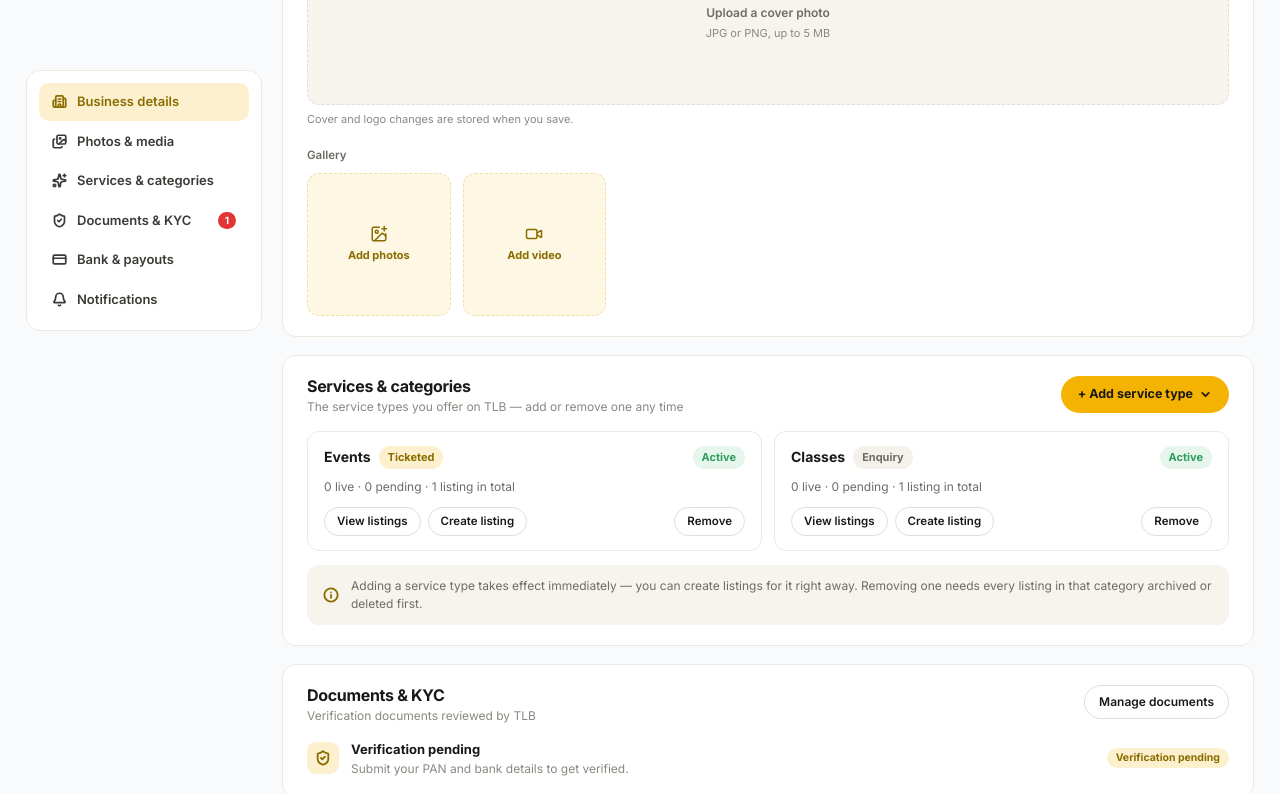
Test: Services & categories — verticals self-service › adds a new vertical and shows it immediately without a page reload
The image size is (1280, 794).
(page scrolled)
Check: the text "Venues" is not shown
Click the button "+ Add service type" at coordinates (1145, 395), box [1061,376,1229,413]
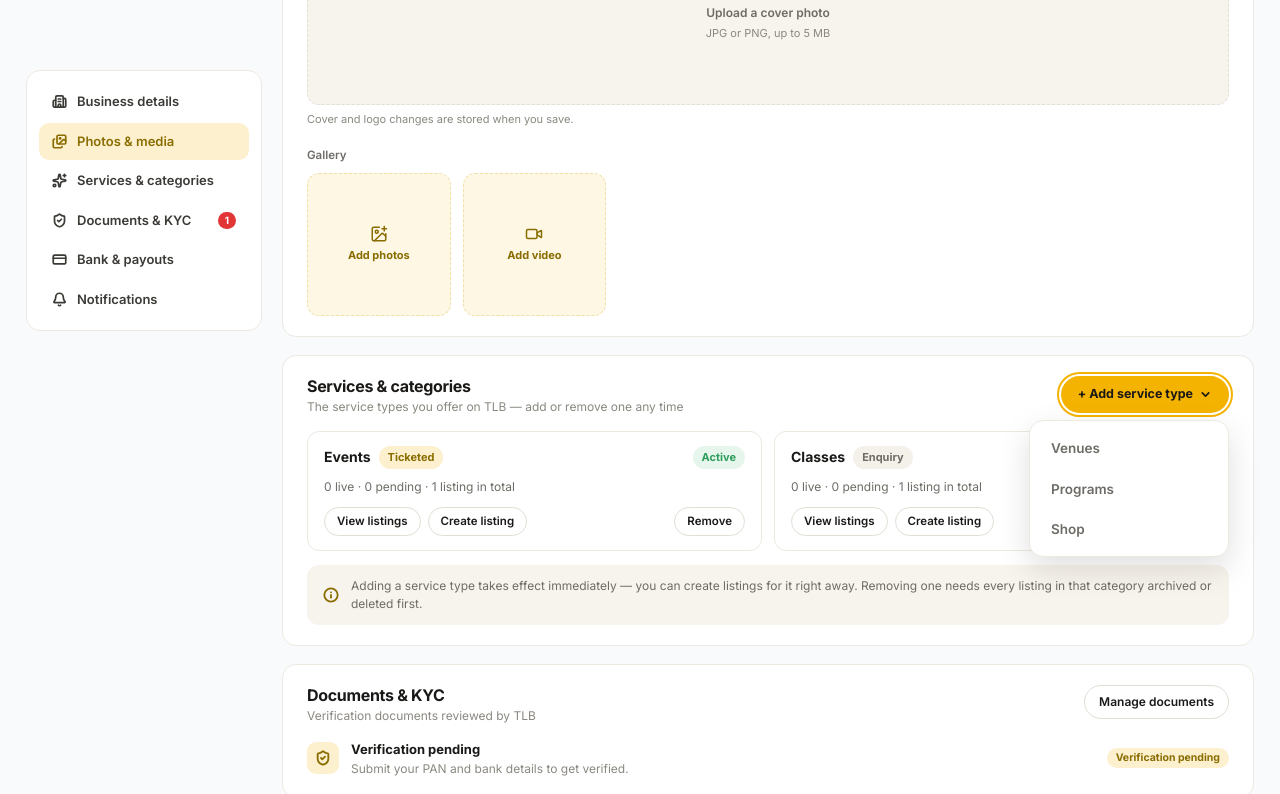
Click the menu item "Venues" at coordinates (1129, 448), box [1037,428,1221,469]
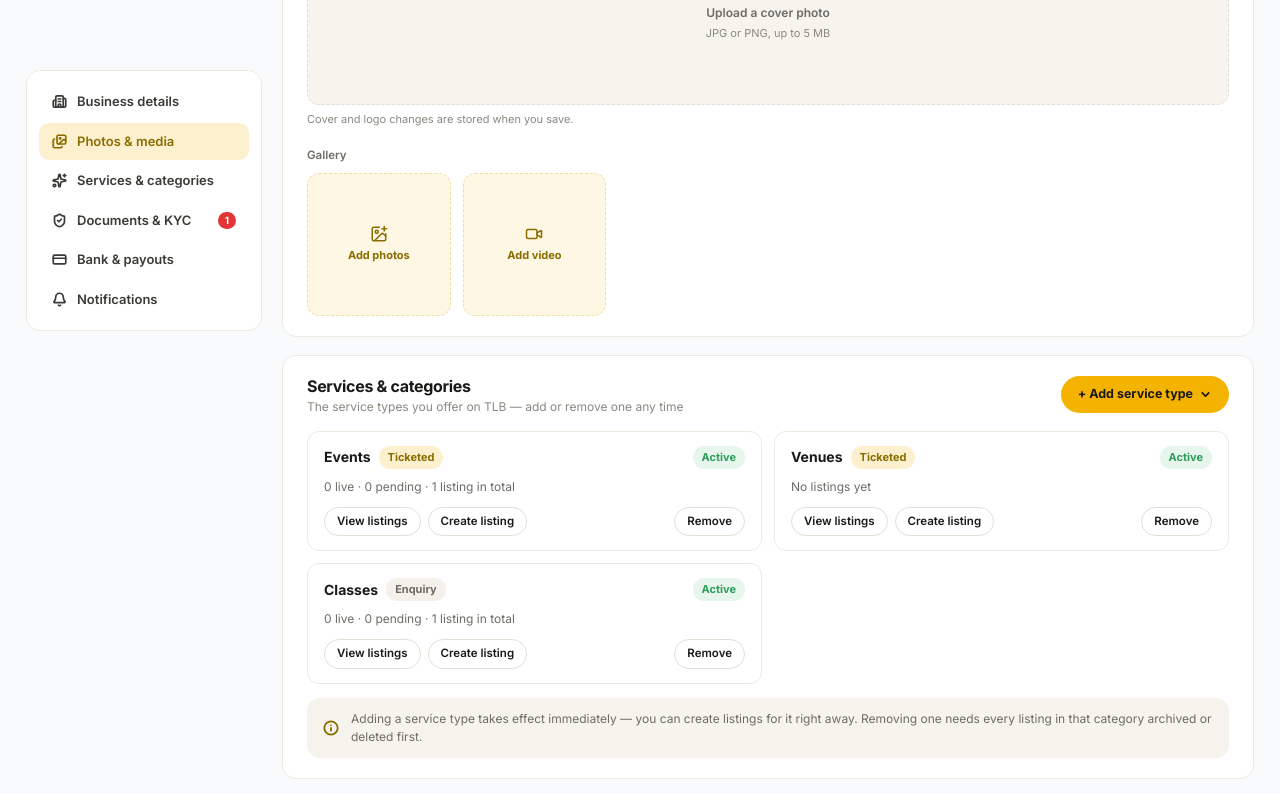
Check: the text "Venues" is shown, box [791,447,843,467]
